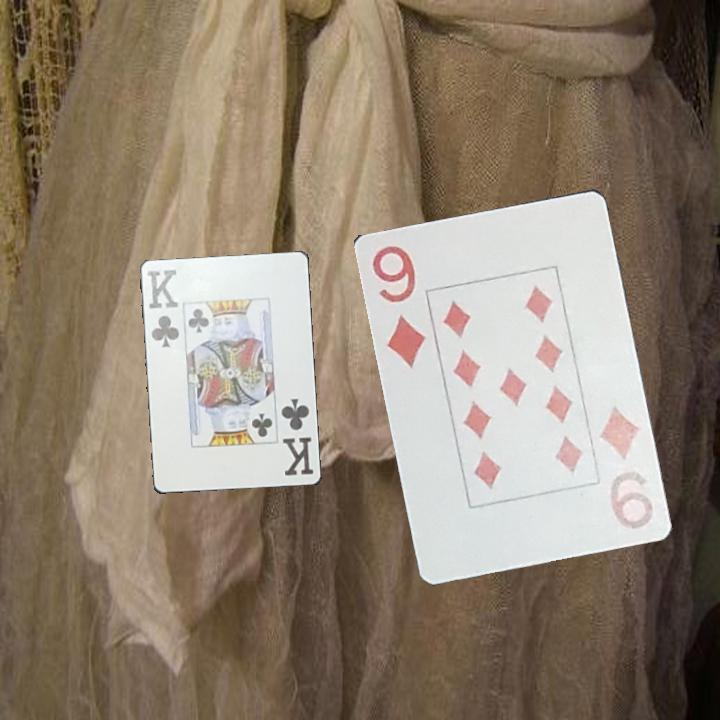9d: (594, 402, 660, 532), (368, 241, 428, 372)
Kc: (278, 395, 317, 479), (144, 266, 182, 351)
